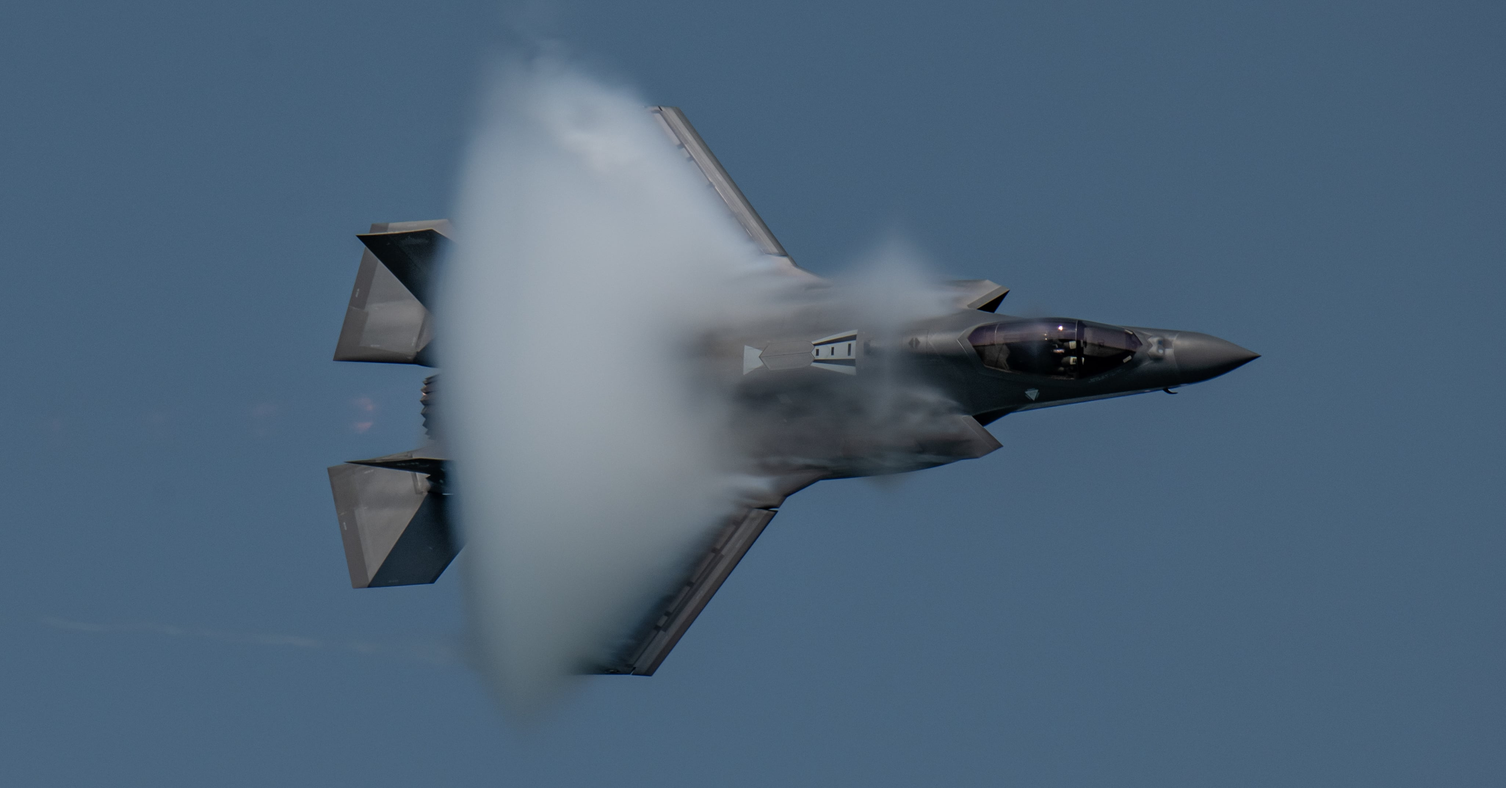F35: (310, 79, 1268, 690)
